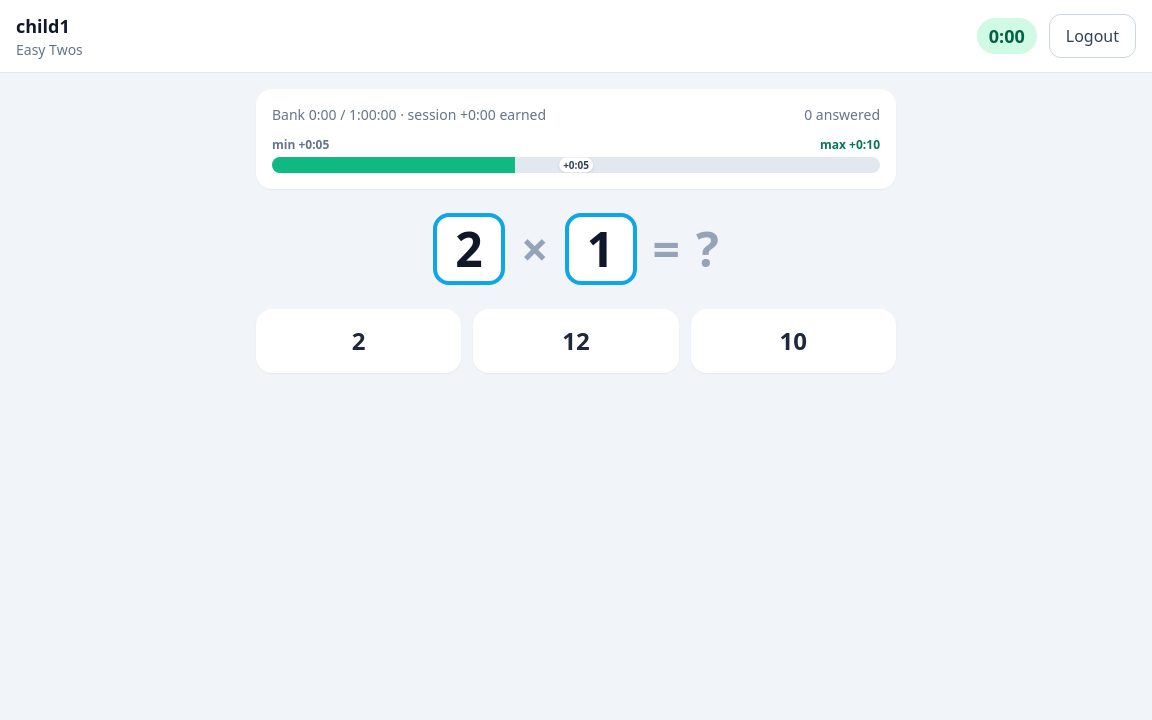
Test: T23 — time-decayed reward › case 7: waiting ~9 s then answering correctly shows the reduced time added
The image size is (1152, 720).
Expected: the element with test id "question" is shown, [433,213,719,285]
Expected: the element with test id "answers" is shown, [256,309,896,373]
Click the button "2".
click(359, 341)  # box [256,309,461,373]
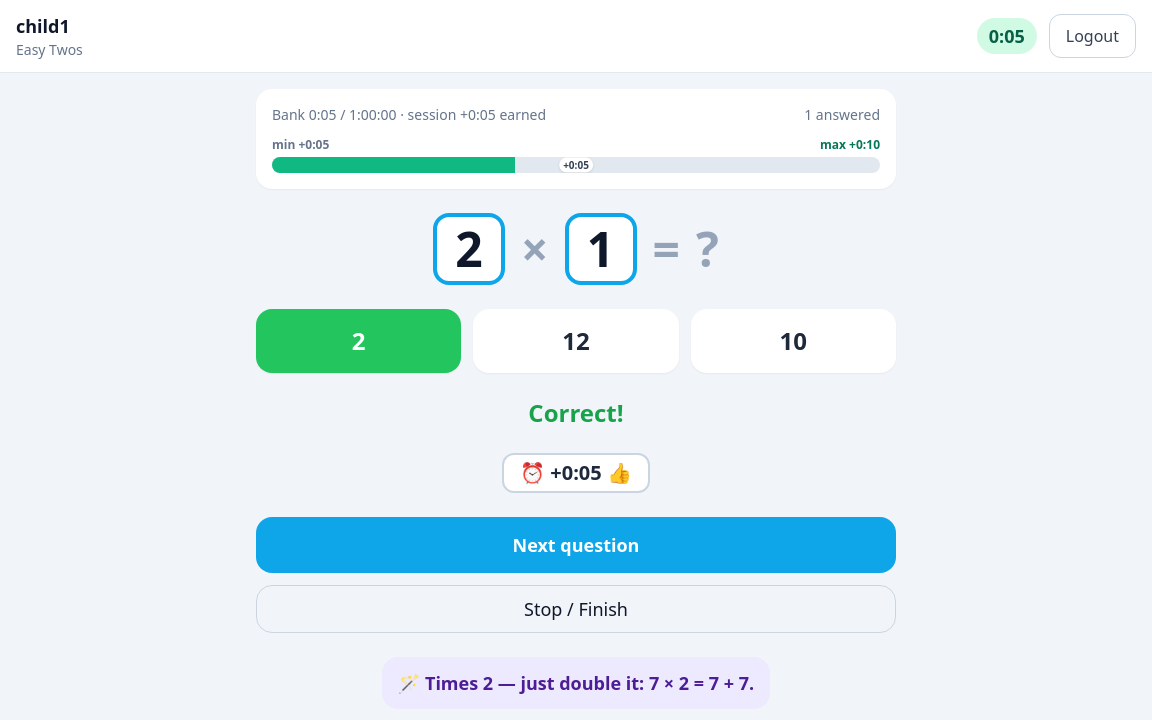
Expected: the text "Correct!" is shown, [528,396,624,429]
Expected: the text with test id "bank" reads "Bank 0:05", [272,105,336,124]
Expected: the text with test id "session-earned" reads "session +0:05 earned", [408,105,546,124]
